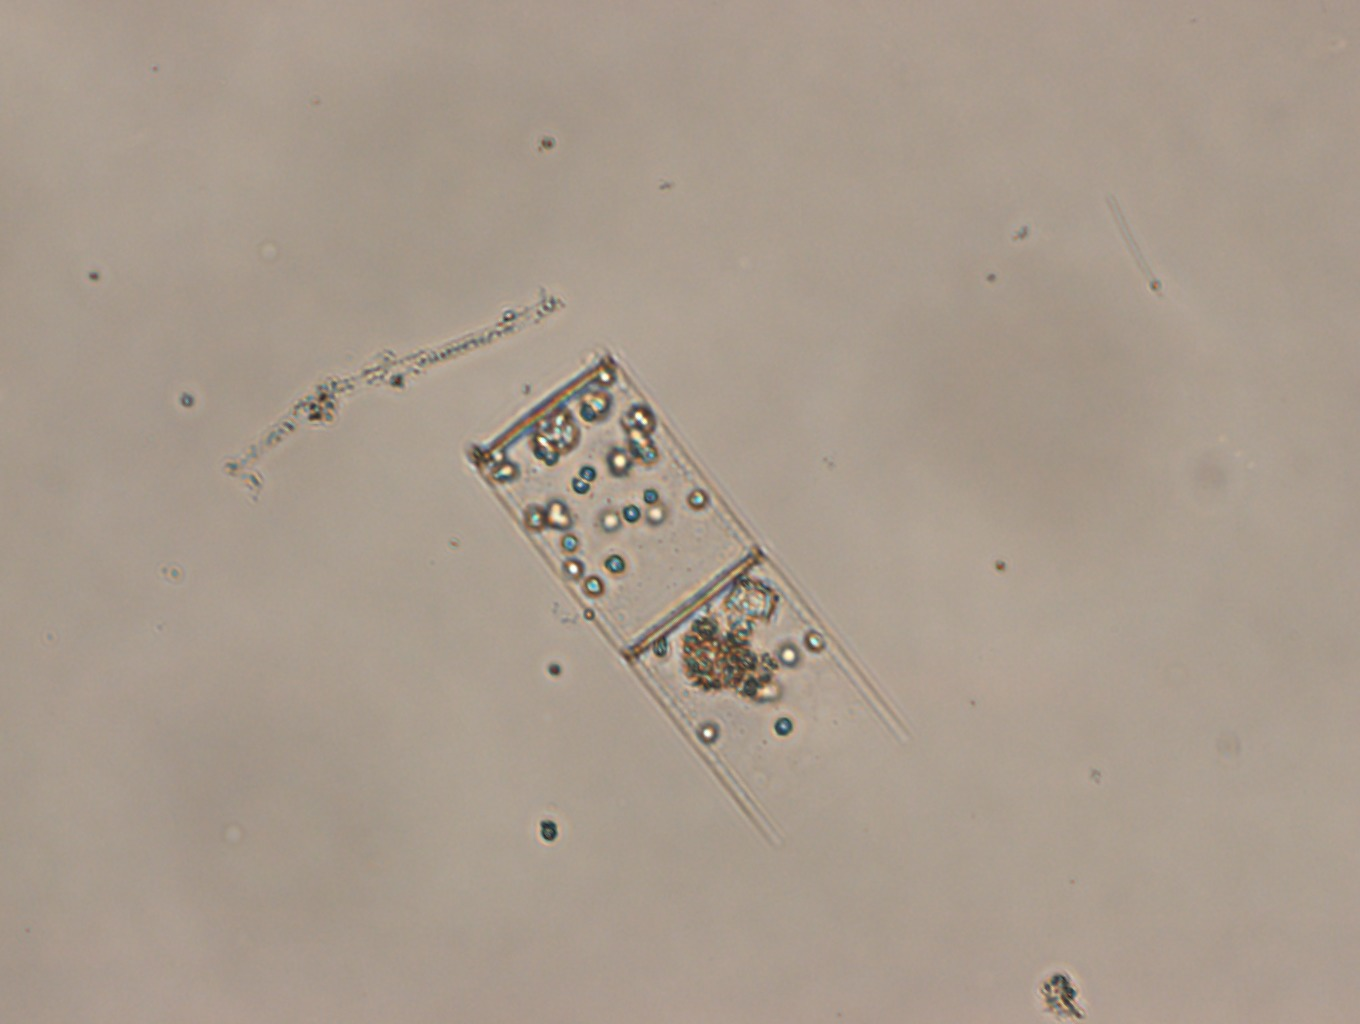guinardia flaccida: (476, 358, 907, 844)
